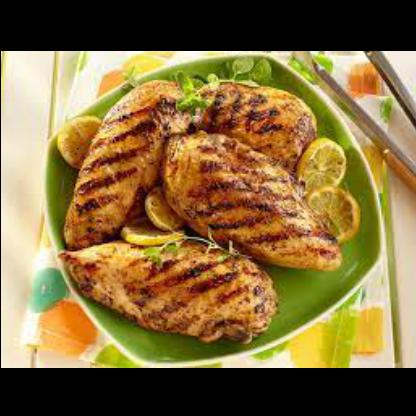grilled chicken breast: (162, 130, 341, 270), (58, 236, 278, 340), (62, 78, 192, 244), (195, 80, 317, 164)
